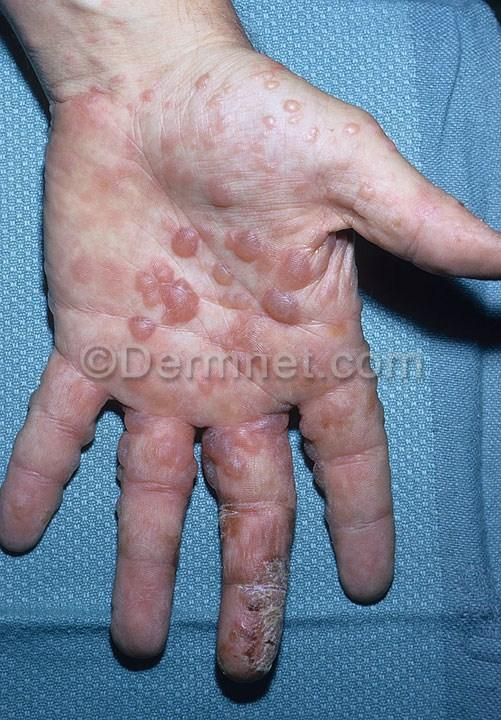Eczema: (137, 260, 202, 329), (201, 428, 256, 485), (248, 284, 321, 323), (89, 155, 149, 200), (231, 417, 279, 466), (228, 562, 272, 614), (223, 223, 263, 280), (243, 114, 287, 165), (213, 500, 256, 551), (276, 240, 321, 285), (326, 390, 369, 437), (119, 510, 152, 570), (295, 337, 338, 382), (260, 554, 289, 620), (251, 361, 300, 400), (164, 222, 206, 267), (54, 122, 94, 167), (59, 258, 106, 296), (194, 120, 236, 162), (321, 448, 356, 498), (59, 101, 110, 135), (204, 174, 245, 216), (261, 476, 291, 533), (114, 603, 152, 646), (346, 455, 380, 503), (303, 410, 343, 450), (235, 615, 269, 662), (253, 167, 288, 212), (206, 255, 238, 303), (215, 313, 260, 347), (20, 442, 69, 473), (147, 428, 178, 476), (189, 367, 231, 401), (130, 586, 173, 619), (106, 116, 143, 153), (351, 172, 389, 207), (182, 65, 223, 97), (373, 125, 404, 167), (125, 316, 163, 350), (66, 373, 94, 419), (98, 207, 129, 247), (148, 508, 181, 545), (329, 303, 358, 345), (153, 128, 191, 160), (69, 205, 104, 239), (219, 286, 252, 322), (253, 59, 286, 94), (72, 238, 107, 271), (124, 402, 156, 436), (270, 85, 300, 121), (365, 543, 394, 580), (118, 434, 137, 490), (390, 205, 417, 244), (249, 110, 285, 139), (294, 113, 323, 149), (46, 200, 74, 235), (335, 525, 355, 574), (205, 94, 230, 133), (292, 116, 324, 146), (7, 490, 40, 518), (336, 116, 366, 146), (81, 51, 113, 76), (360, 391, 380, 431), (415, 183, 443, 211), (448, 225, 477, 252), (83, 88, 111, 115), (260, 74, 286, 102), (36, 396, 62, 422), (225, 665, 270, 680), (135, 83, 163, 106), (49, 347, 72, 375), (48, 240, 69, 270), (46, 167, 69, 194), (73, 183, 101, 204), (101, 67, 126, 89), (375, 494, 392, 526), (65, 49, 84, 72), (265, 619, 276, 654), (83, 34, 106, 49)
